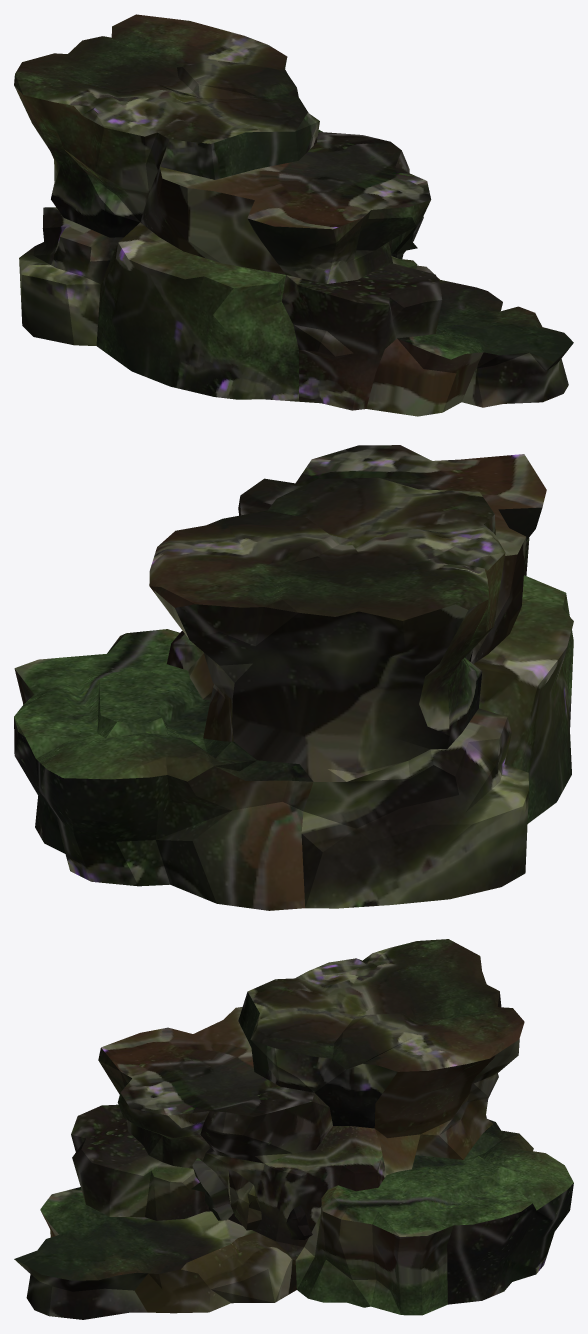
File: FlooorPlatform1 .fbx
The picture shows the model from 3 angles, top to bottom: view 1: azimuth 30°, elevation 25°; view 2: azimuth 150°, elevation 25°; view 3: azimuth 270°, elevation 25°; orthographic projection. The views are drawn at different scales.
Parts seen in each view (by area): view 1: FlooorPlatform.002; view 2: FlooorPlatform.002; view 3: FlooorPlatform.002.
Boxes of the visible parts, x1,y1,x2,y2 form: FlooorPlatform.002: [14, 14, 573, 416]; FlooorPlatform.002: [14, 445, 573, 910]; FlooorPlatform.002: [14, 939, 573, 1319].
Bounding box in the file's own units: 24.03 × 14.53 × 33.03.
1 material, 1 textured.
